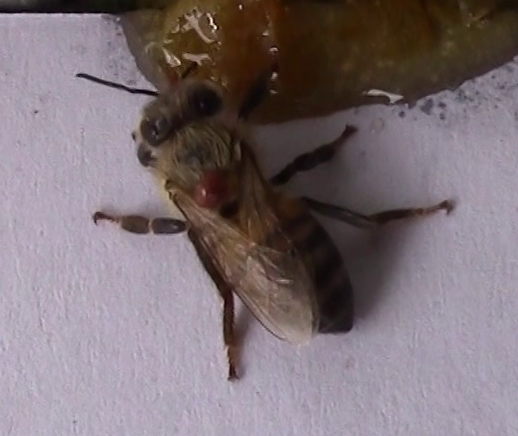Varroa destructor: (190, 165, 233, 211)
